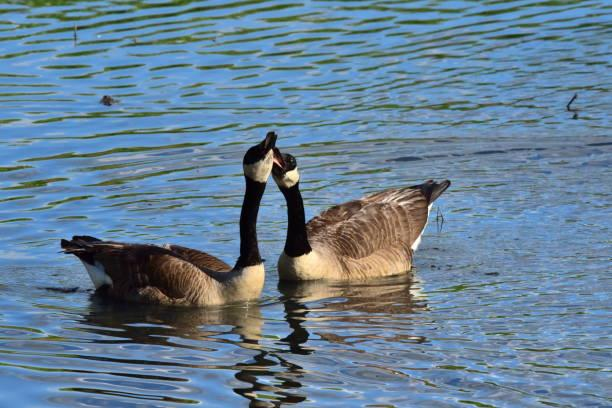Canadian-Goose: (57, 129, 278, 308), (271, 148, 451, 279)
